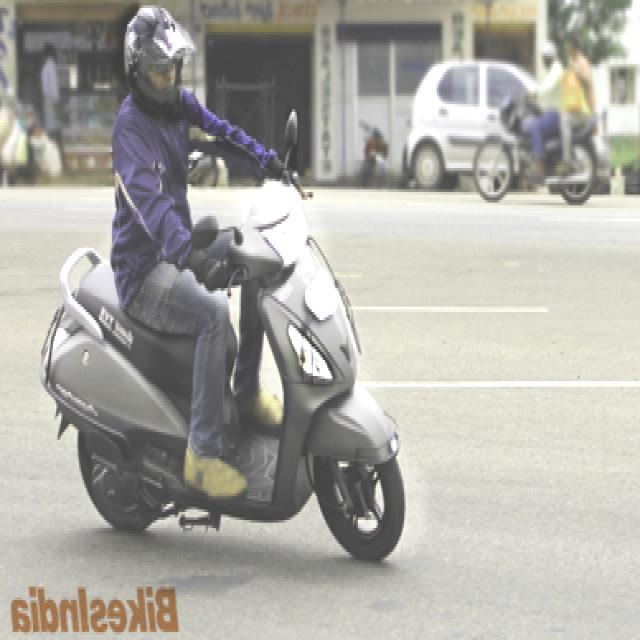Helmet: (121, 0, 197, 125)
